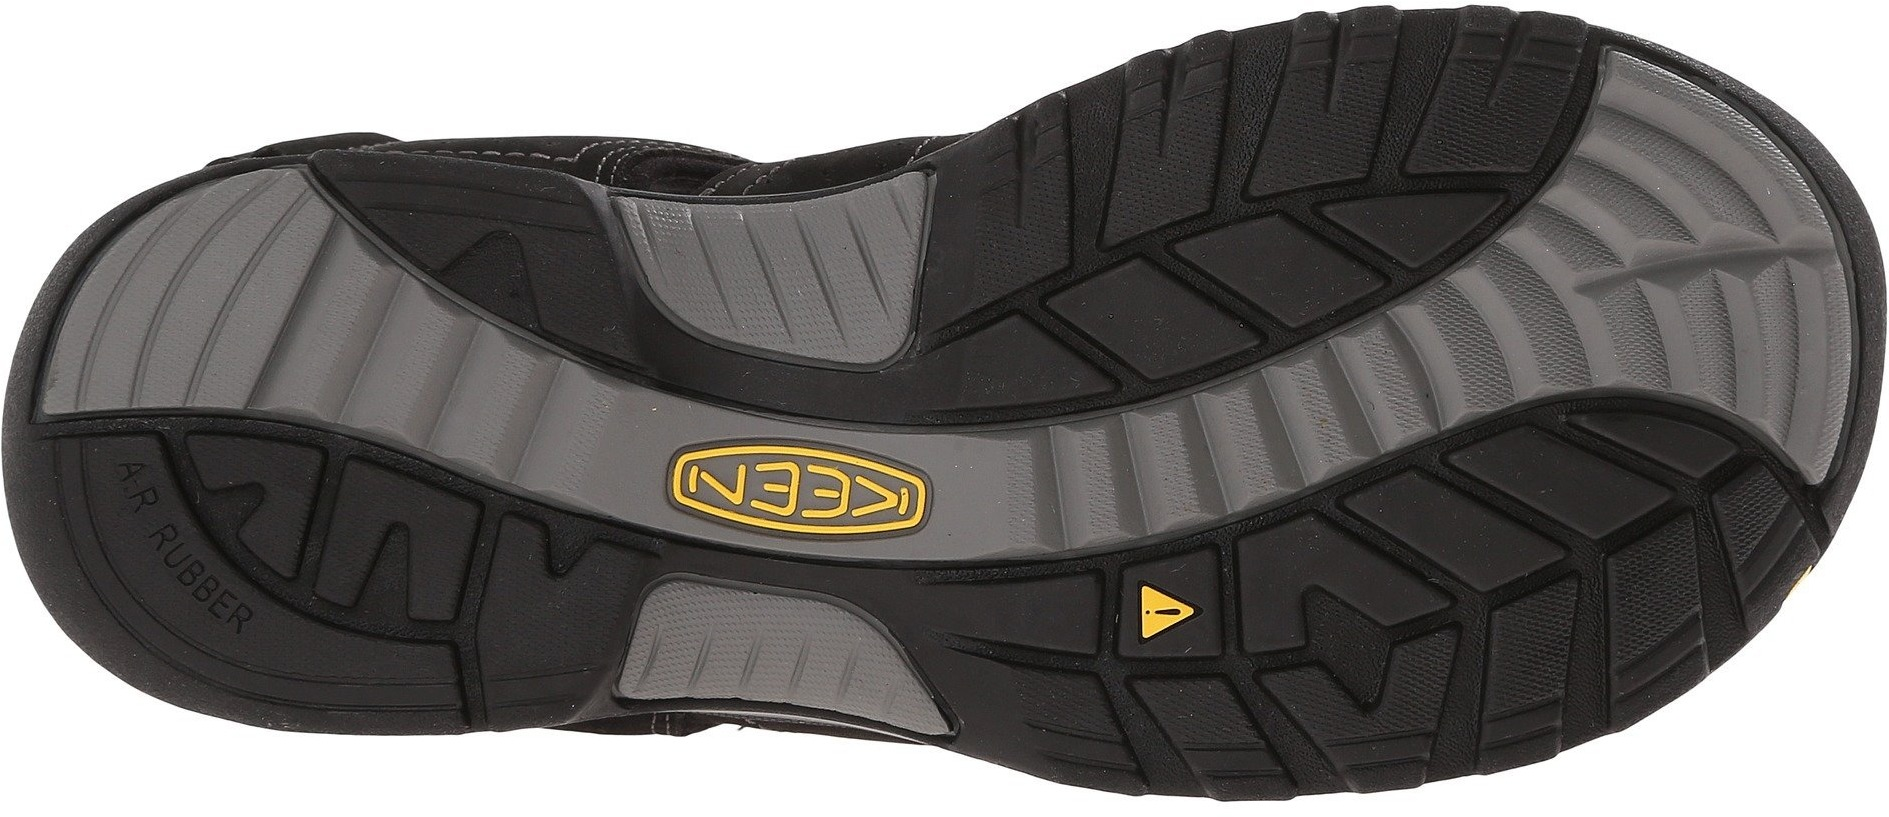quad: (1450, 437, 1728, 675), (973, 202, 1228, 412)
text: (647, 396, 960, 574)
